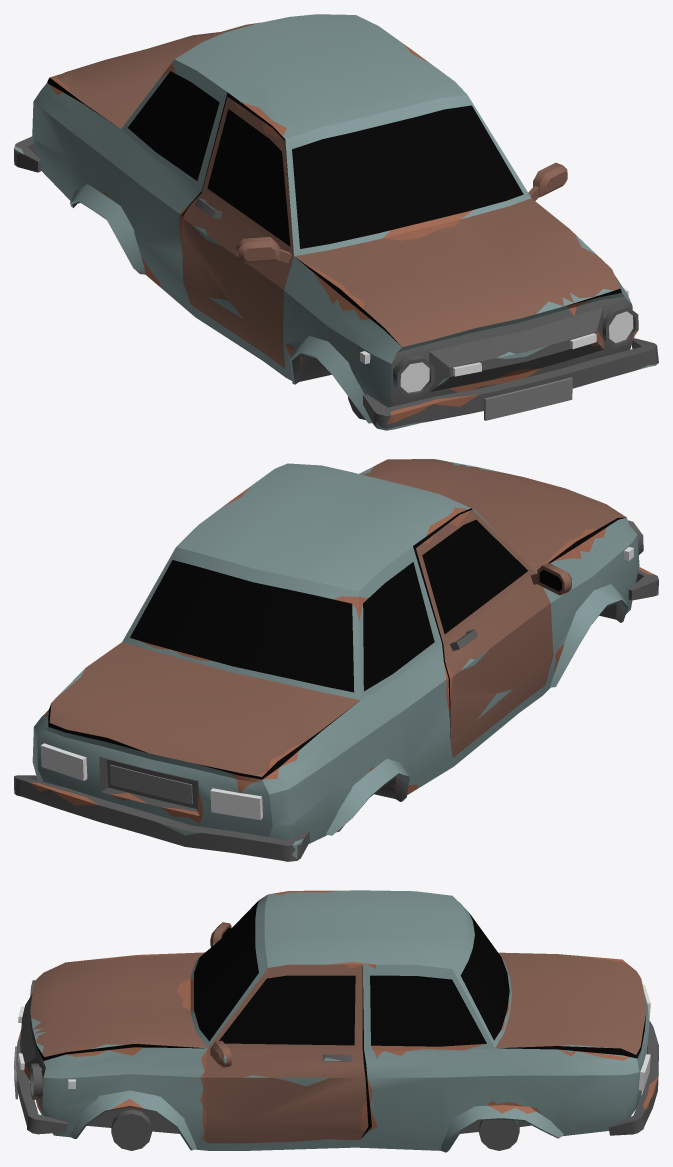
Rendered from mobiuiuuiuiuiul.fbx.
3 views of the same model, one above another, from view 1: azimuth 30°, elevation 25°; view 2: azimuth 150°, elevation 25°; view 3: azimuth 270°, elevation 25° (orthographic). The views are drawn at different scales.
Visible parts, largest first — view 1: car; view 2: car; view 3: car.
Part boxes in pixels (<box>): car: <box>14,14,658,430</box>; car: <box>14,459,658,861</box>; car: <box>14,890,658,1152</box>.
Bounding box in the file's own units: 187 × 123 × 383.
